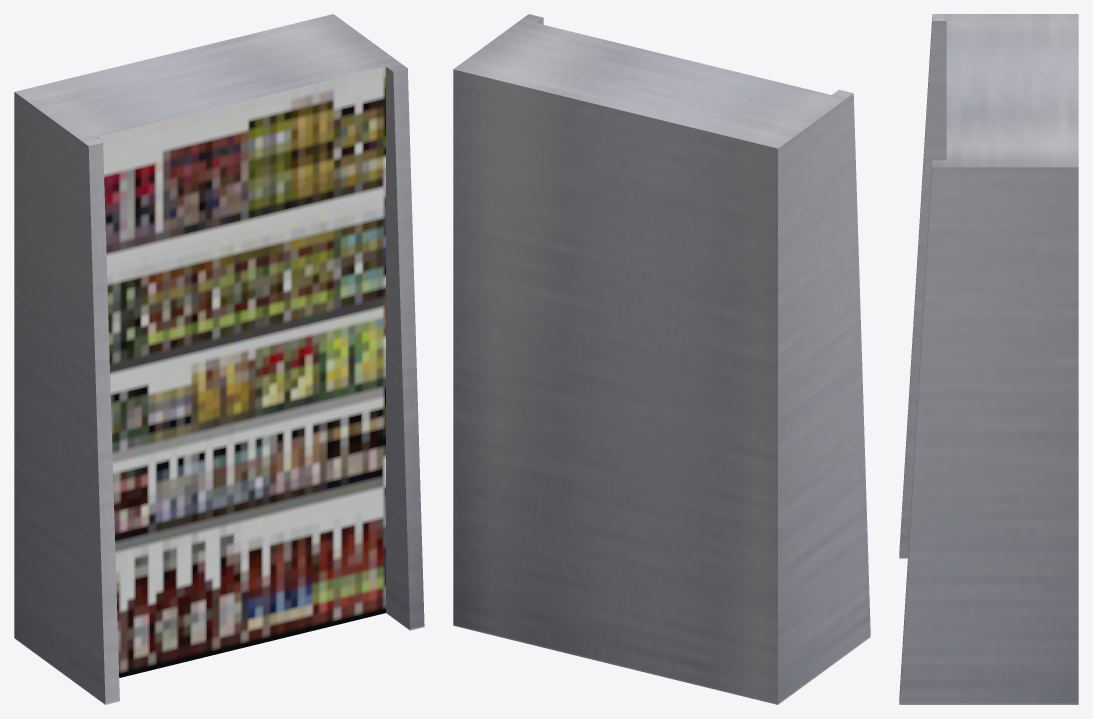
File: Estante_Variado_001.fbx
The picture shows the model from 3 angles, left to right: view 1: azimuth 30°, elevation 25°; view 2: azimuth 150°, elevation 25°; view 3: azimuth 270°, elevation 25°; orthographic projection. The views are drawn at different scales.
Visible parts, largest first — view 1: Estante_Variado_001; view 2: Estante_Variado_001; view 3: Estante_Variado_001.
Boxes of the visible parts, bbox=[...] form: Estante_Variado_001: bbox=[14, 14, 424, 704]; Estante_Variado_001: bbox=[453, 14, 870, 704]; Estante_Variado_001: bbox=[899, 14, 1078, 704].
Bounding box in the file's own units: 110 × 180 × 54.36.
Materials: 1 (1 with a texture image).
